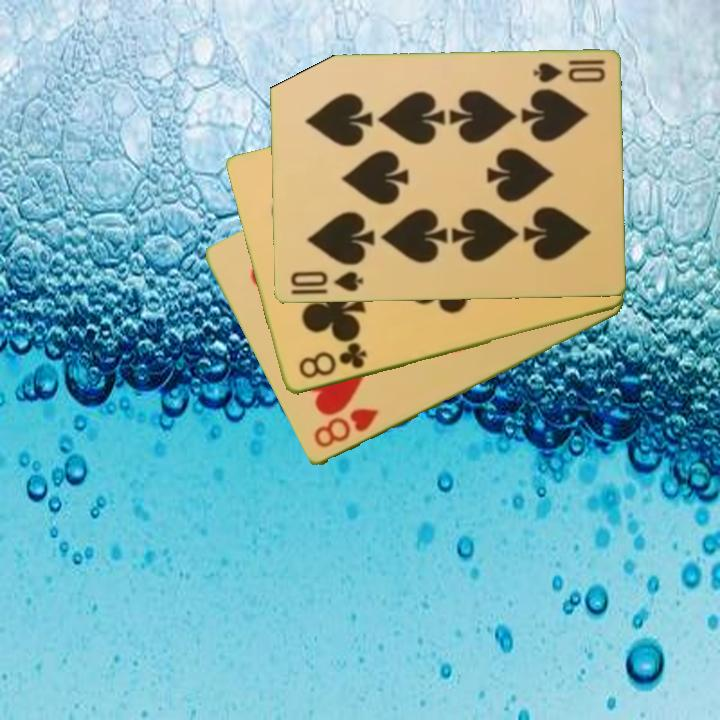10s: (529, 56, 608, 86), (286, 268, 366, 295)
8c: (295, 340, 370, 382)
8h: (310, 404, 381, 452)
